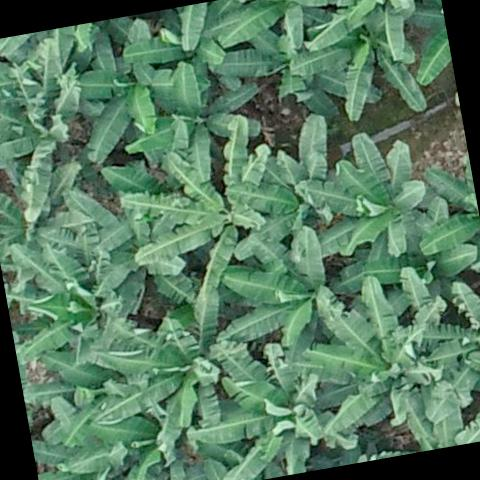Banana-plant: (110, 107, 304, 333), (286, 257, 472, 448), (82, 302, 282, 460), (167, 321, 365, 480), (211, 106, 358, 289), (0, 221, 159, 382), (110, 52, 275, 204), (200, 0, 389, 129), (0, 25, 108, 241), (294, 118, 438, 273), (280, 0, 438, 135), (48, 24, 165, 172), (279, 0, 451, 83), (116, 0, 257, 95), (396, 274, 480, 425)
